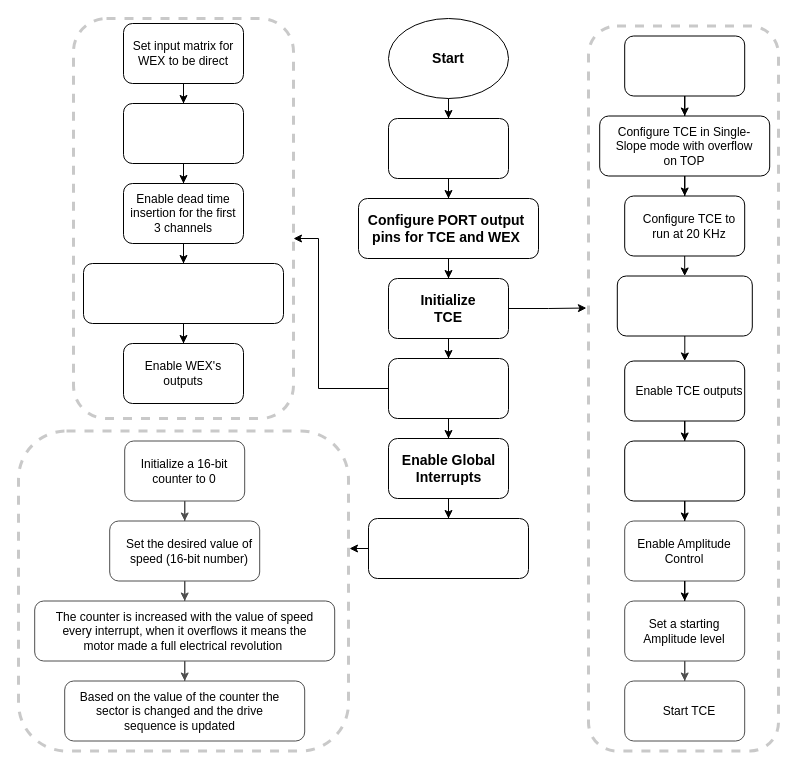
The diagram is 797 pixels wide and 770 high, and some of its shapes have lost their labels. The centre of each missing label's shape, as x and y in pixels:
"Clock Initialize" goes at (448,148).
"Configure the desired dead time values" goes at (183,293).
"Initialize WEX" goes at (448,388).
"Register Motor Drive Update Callback Function" goes at (448,548).
"Select the 20 MHz peripheral clock" goes at (684,65).
"Set initial duty cycle values to 0" goes at (684,305).
"Set Scaling mode to CENTER or BOTTOM" goes at (684,470).
"Set TCE as the update source" goes at (183,133).
